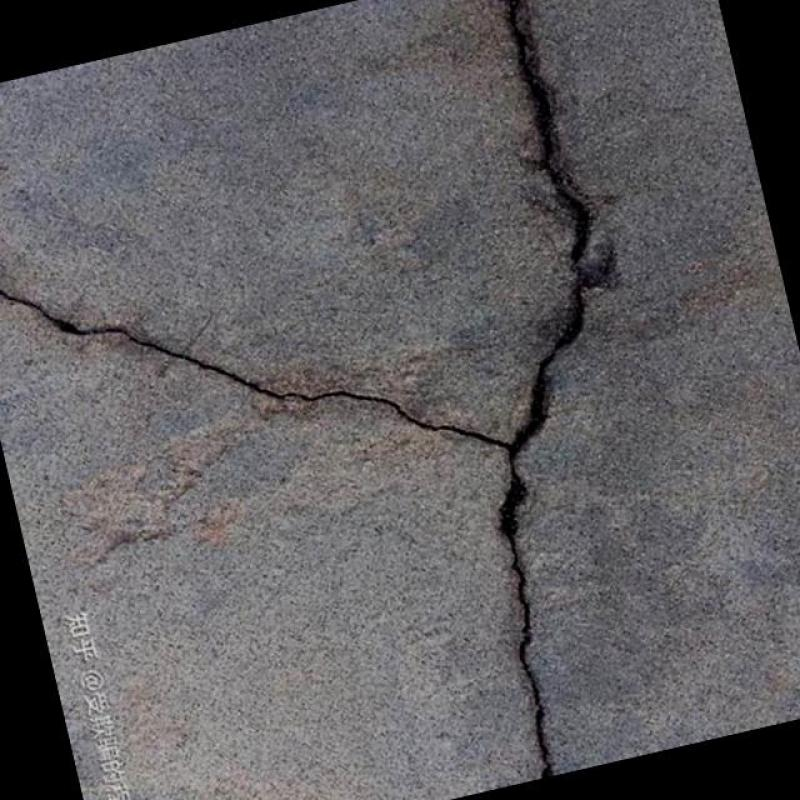Fracture: (428, 372, 589, 792), (500, 0, 595, 222)
